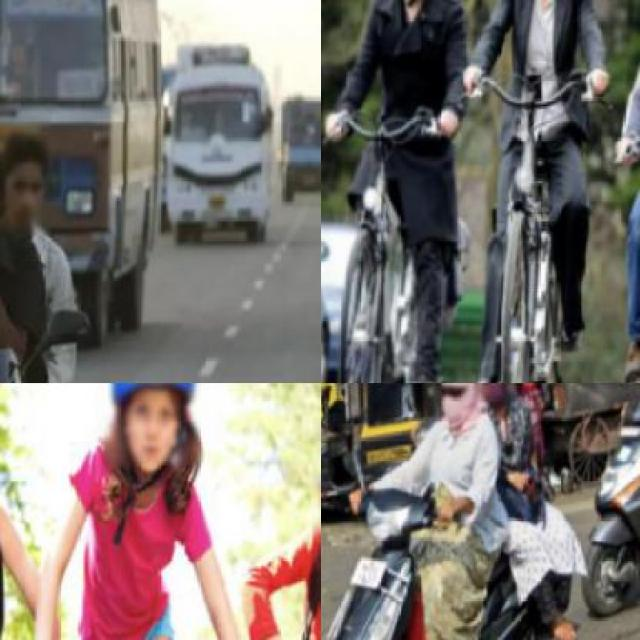With Helmet: (100, 383, 205, 471)
Without Helmet: (0, 117, 55, 240), (434, 383, 484, 426), (472, 383, 518, 408)
